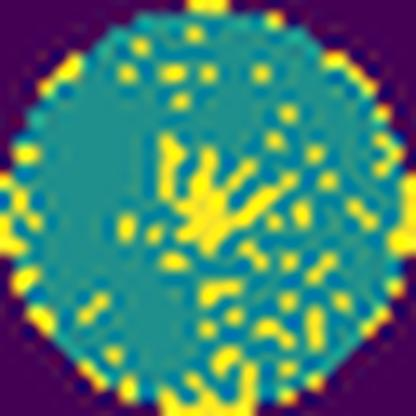Center: (154, 127, 299, 258)
